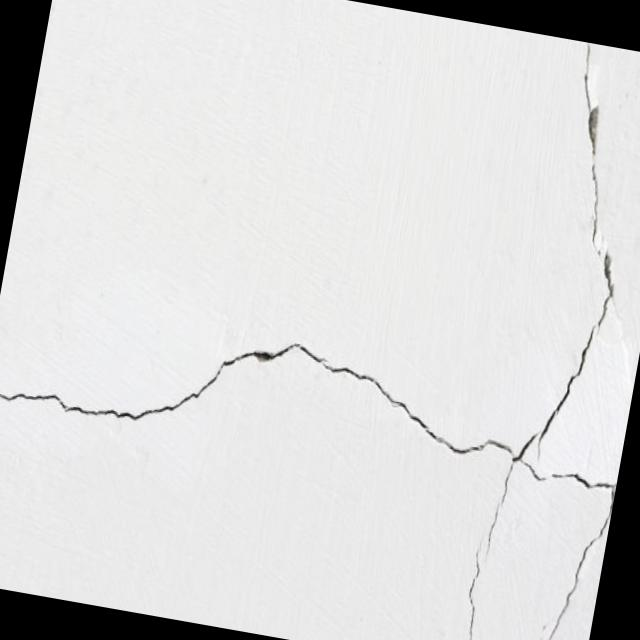crack: (0, 285, 530, 491), (514, 45, 640, 467), (481, 450, 618, 640), (450, 450, 517, 640)
